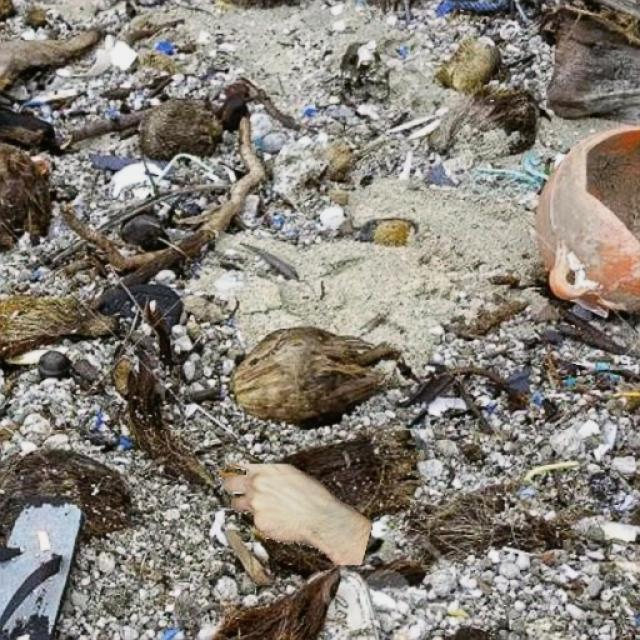Person in Rubble: (218, 464, 372, 564)
